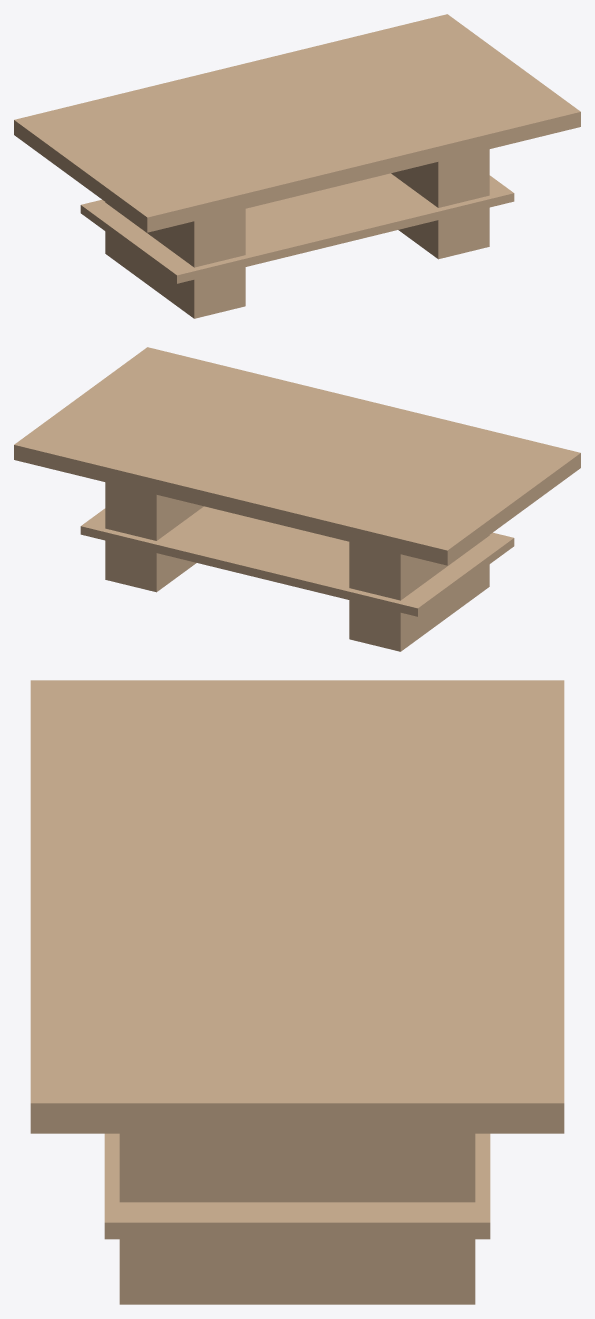
The model's file is coastal-coffee-table.glb.
3 views of the same model, one above another, from view 1: azimuth 30°, elevation 25°; view 2: azimuth 150°, elevation 25°; view 3: azimuth 270°, elevation 25° (orthographic). The views are drawn at different scales.
Parts seen in each view (by area): view 1: SpottedGumCoffeeTable; view 2: SpottedGumCoffeeTable; view 3: SpottedGumCoffeeTable.
Boxes of the visible parts, x1,y1,x2,y2 form: SpottedGumCoffeeTable: [14, 14, 580, 318]; SpottedGumCoffeeTable: [14, 347, 580, 651]; SpottedGumCoffeeTable: [30, 680, 564, 1304].
Size of the model in its own units: 1.35 by 0.4 by 0.72.
